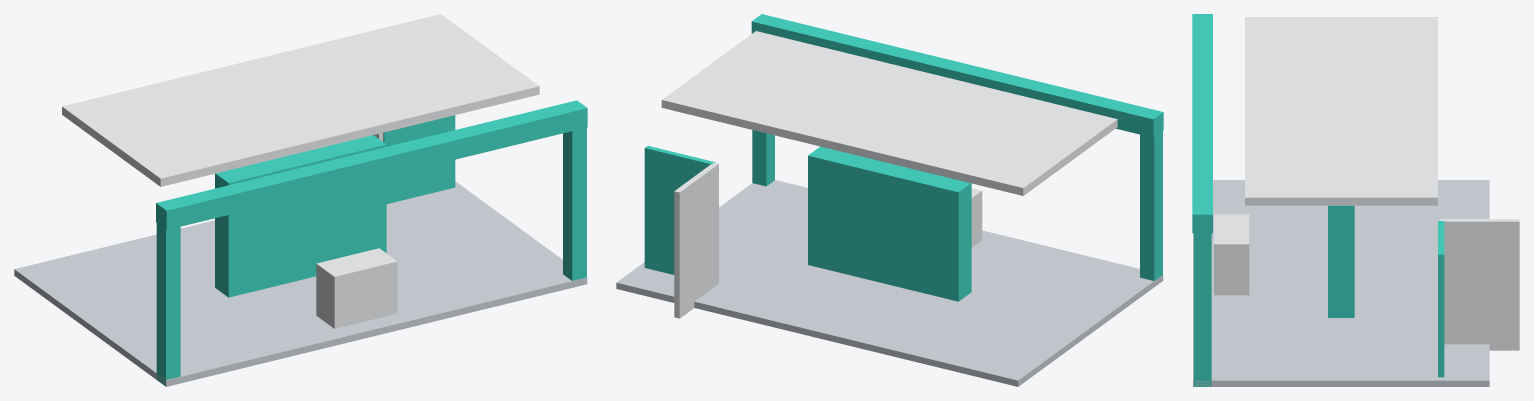
3 views of the same model, side by side, from view 1: azimuth 30°, elevation 25°; view 2: azimuth 150°, elevation 25°; view 3: azimuth 270°, elevation 25° (orthographic). The views are drawn at different scales.
Visible parts, largest first — view 1: Exhibition Booth Concept; view 2: Exhibition Booth Concept; view 3: Exhibition Booth Concept.
Part boxes in pixels (<box>): Exhibition Booth Concept: <box>14,14,587,386</box>; Exhibition Booth Concept: <box>616,14,1163,386</box>; Exhibition Booth Concept: <box>1192,14,1519,386</box>.
Size of the model in its own units: 8 by 3.34 by 5.52.
